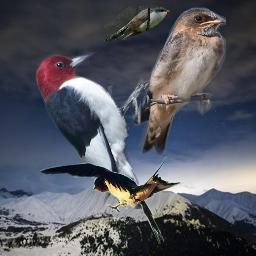Cuckoo: (102, 6, 170, 42)
Swallow: (37, 155, 207, 244), (132, 7, 226, 155)
Woodpecker: (35, 52, 155, 209)
